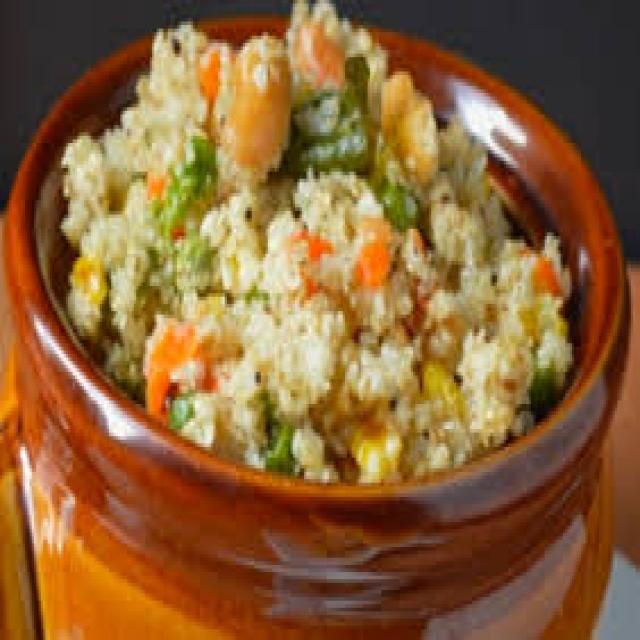UPMA: (50, 0, 572, 476)
